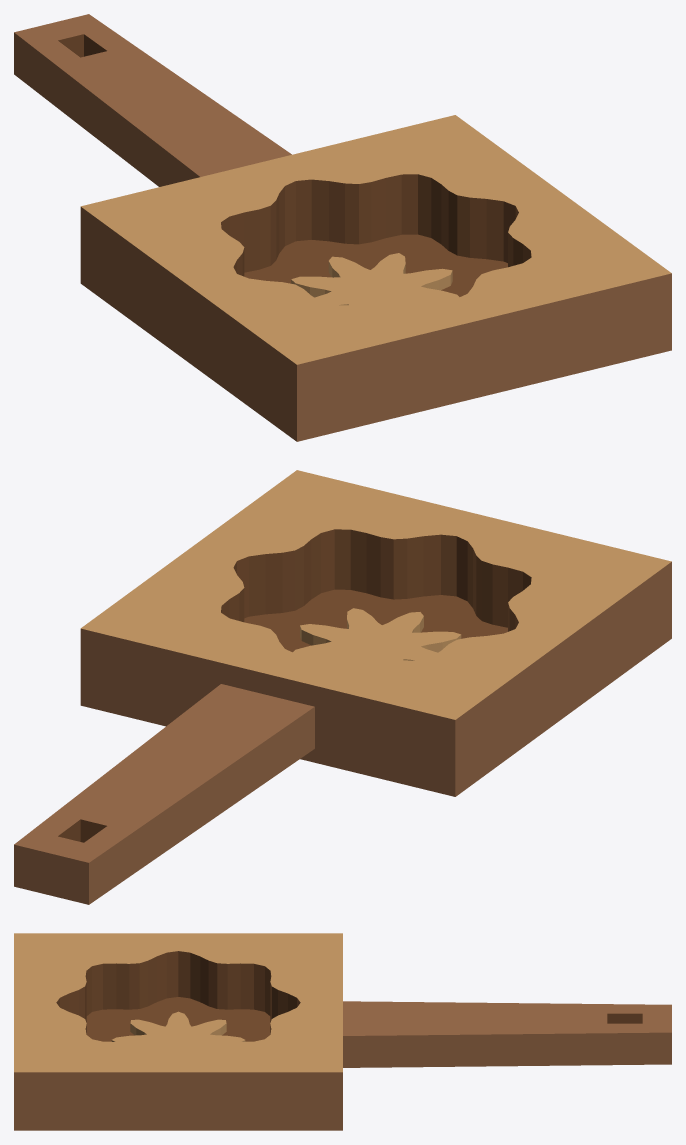
3 renders of one model, top to bottom at view 1: azimuth 30°, elevation 25°; view 2: azimuth 150°, elevation 25°; view 3: azimuth 270°, elevation 25°, orthographic. The views are drawn at different scales.
Parts seen in each view (by area): view 1: ThickSquareScallopedCavityMouldHead, TaperedThroughApertureWoodenHandle, RaisedEightPetalCavityDie; view 2: ThickSquareScallopedCavityMouldHead, TaperedThroughApertureWoodenHandle, RaisedEightPetalCavityDie; view 3: ThickSquareScallopedCavityMouldHead, TaperedThroughApertureWoodenHandle, RaisedEightPetalCavityDie.
Part boxes in pixels (x1,y1,x2,y2): ThickSquareScallopedCavityMouldHead: [80, 115, 671, 441]; TaperedThroughApertureWoodenHandle: [14, 14, 291, 186]; RaisedEightPetalCavityDie: [291, 253, 459, 305]; ThickSquareScallopedCavityMouldHead: [80, 470, 671, 796]; TaperedThroughApertureWoodenHandle: [14, 684, 314, 904]; RaisedEightPetalCavityDie: [292, 608, 461, 660]; ThickSquareScallopedCavityMouldHead: [14, 933, 342, 1130]; TaperedThroughApertureWoodenHandle: [343, 1001, 671, 1067]; RaisedEightPetalCavityDie: [111, 1011, 245, 1054].
Bounding box in the file's own units: 0.28 × 0.055 × 0.56.
